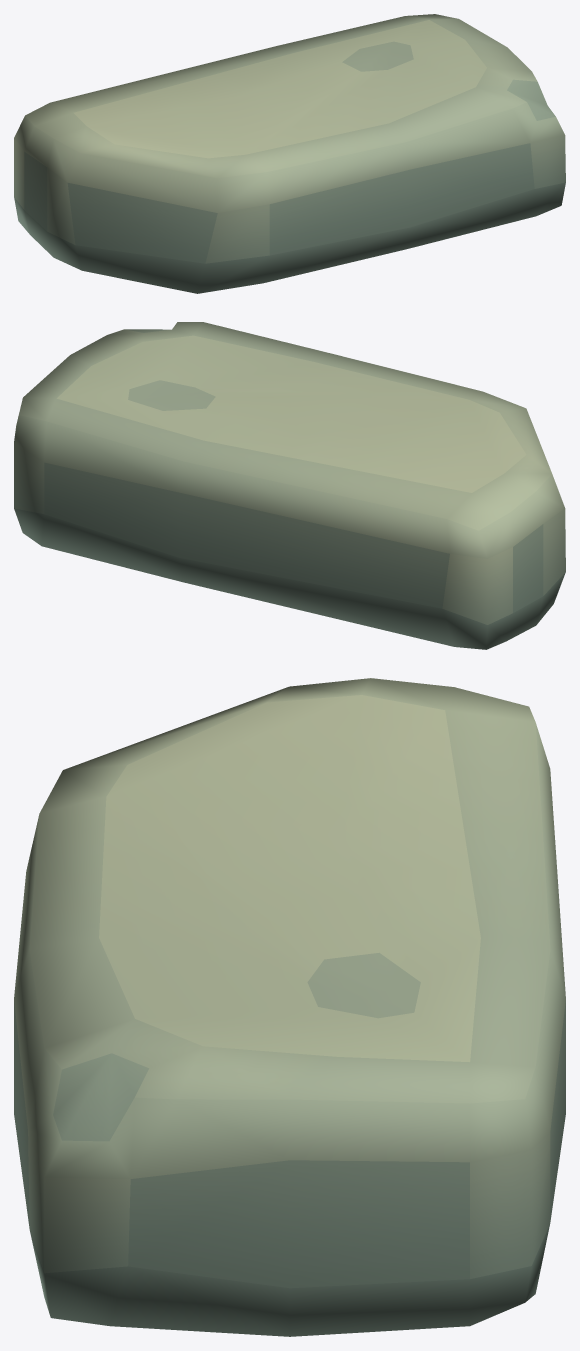
Rendered from block_stone1_3_debris_LOD_group.fbx.
3 renders of one model, top to bottom at view 1: azimuth 30°, elevation 25°; view 2: azimuth 150°, elevation 25°; view 3: azimuth 270°, elevation 25°, orthographic. The views are drawn at different scales.
Visible parts, largest first — view 1: block_stone1_3_debris_LOD0; view 2: block_stone1_3_debris_LOD0; view 3: block_stone1_3_debris_LOD0.
Boxes of the visible parts, box(x1,y1,x2,y2) form: block_stone1_3_debris_LOD0: box(14, 14, 565, 293); block_stone1_3_debris_LOD0: box(14, 322, 565, 649); block_stone1_3_debris_LOD0: box(14, 678, 565, 1336).
Size of what is drawn, in the model's own units: 109 by 30.87 by 58.69.
1 material, 1 textured.
